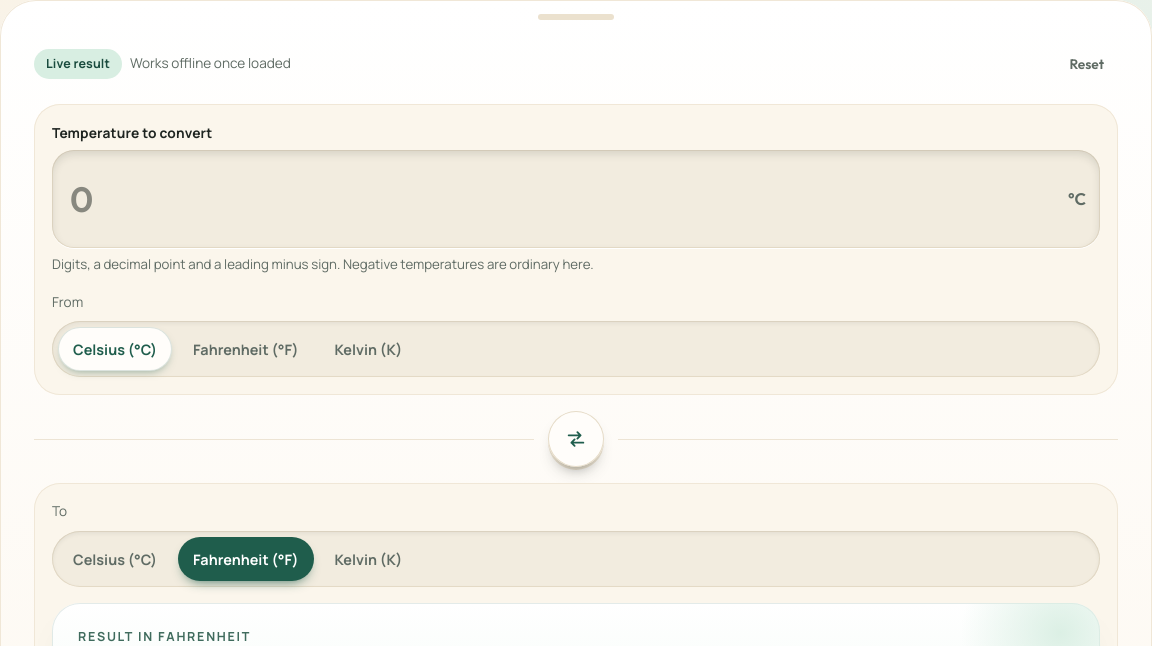
Test: TemperatureConverter › swaps the two scales and recalculates, keeping focus on the control
Type "100" into the field labelled "Temperature to convert".
click(563, 199); type("100")  # box [66,158,1060,240]
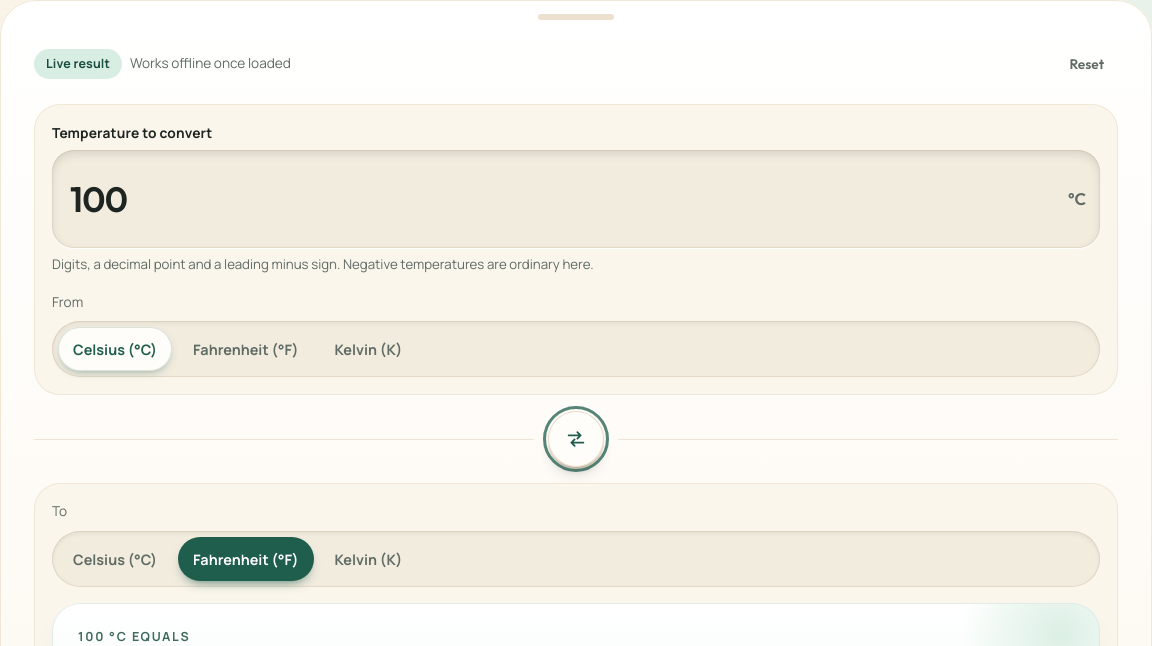
Click the button named "Swap scales".
click(576, 439)  # box [548,411,604,467]
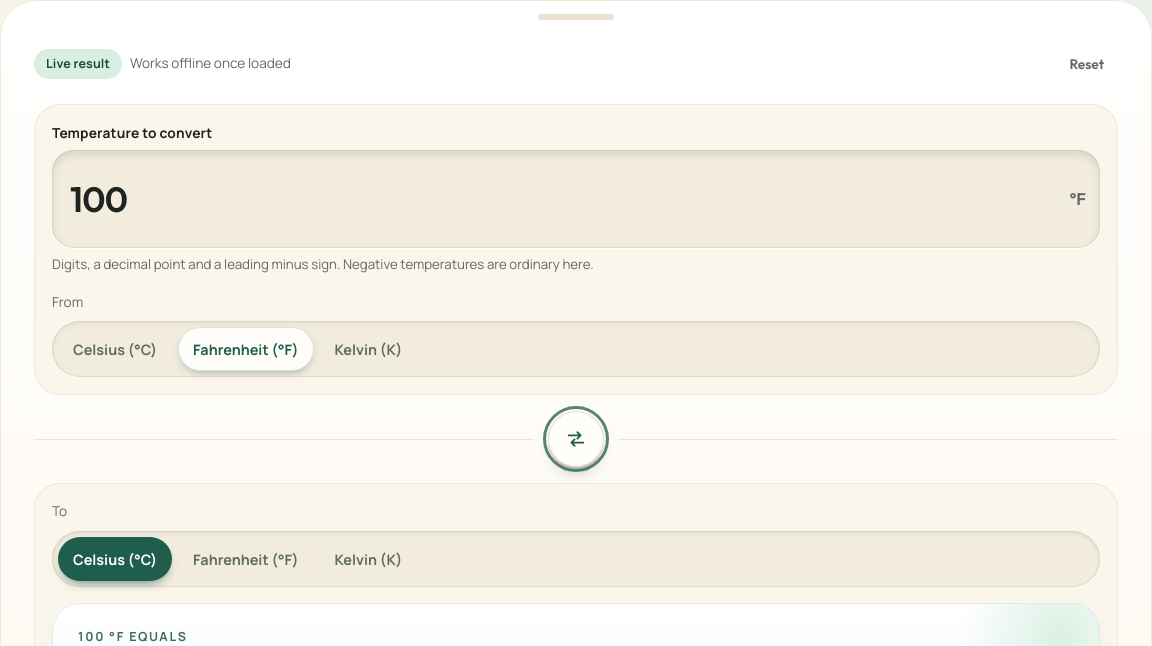
Expected: the radio button labelled "Fahrenheit (°F)" below "From" is checked, [178,327,314,371]
Expected: the 2nd radio button labelled "Celsius (°C)" is checked, [58,537,172,581]
